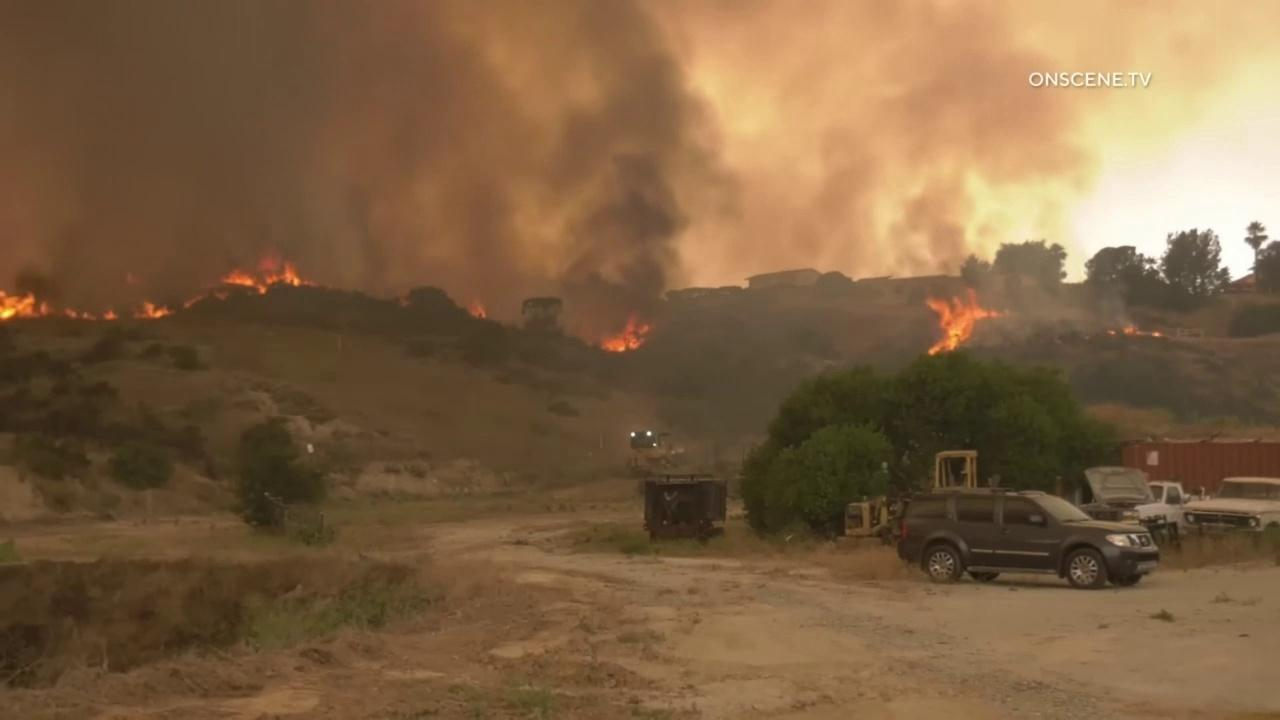fire: (926, 286, 1006, 357), (221, 259, 320, 295), (599, 311, 649, 352), (0, 288, 50, 321), (134, 302, 177, 319), (467, 300, 486, 319), (183, 295, 203, 309), (63, 306, 79, 319), (102, 309, 119, 321), (1122, 326, 1134, 338), (81, 312, 96, 321), (1106, 329, 1117, 336), (1151, 331, 1161, 337)
smoke: (0, 0, 1280, 344)
